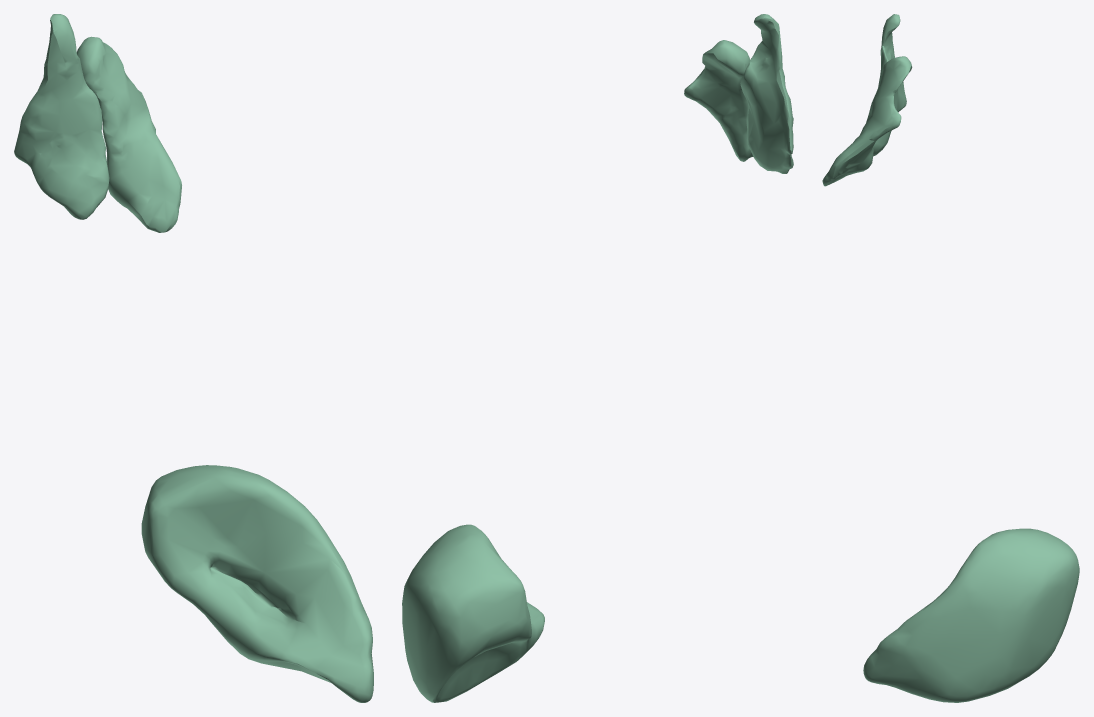
File: lymphatic.glb
3 views of the same model, side by side, from view 1: azimuth 30°, elevation 25°; view 2: azimuth 150°, elevation 25°; view 3: azimuth 270°, elevation 25° (orthographic). The views are drawn at different scales.
Parts seen in each view (by area): view 1: FMA7196, FMA71194, FMA71195; view 2: FMA7196, FMA71194, FMA71195; view 3: FMA7196, FMA71195, FMA71194.
Boxes of the visible parts, bbox=[...] form: FMA7196: bbox=[141, 465, 373, 702]; FMA71194: bbox=[14, 14, 109, 219]; FMA71195: bbox=[76, 36, 181, 232]; FMA7196: bbox=[402, 524, 544, 702]; FMA71194: bbox=[740, 14, 793, 173]; FMA71195: bbox=[684, 40, 753, 161]; FMA7196: bbox=[863, 528, 1079, 702]; FMA71195: bbox=[822, 56, 912, 186]; FMA71194: bbox=[873, 14, 906, 156].
Size of the model in its own units: 0.2831 by 0.5681 by 0.231.
